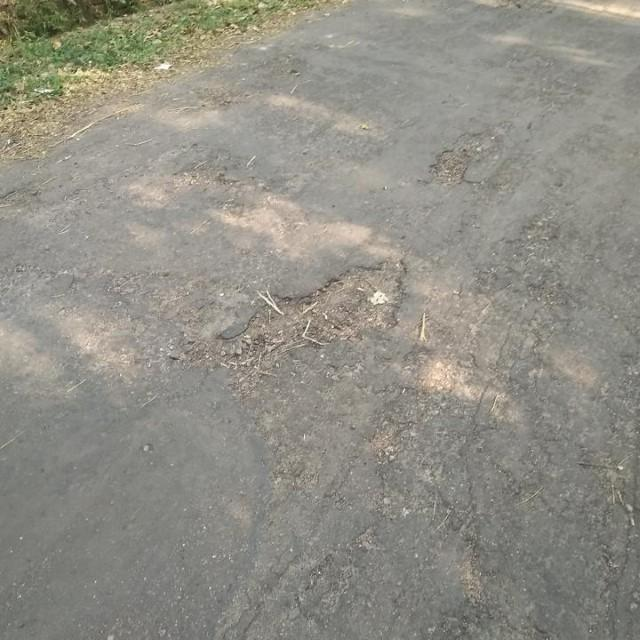Pothole: (167, 247, 411, 394)
